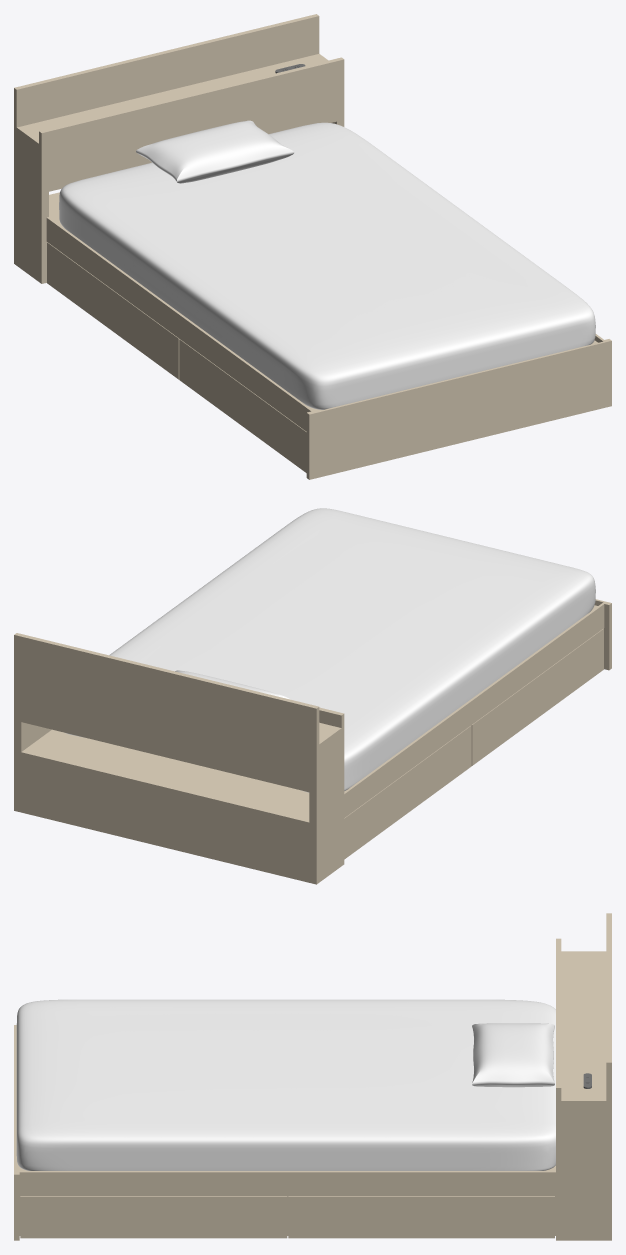
Rendered from 129_セミダブルベッド.glb.
The picture shows the model from 3 angles, top to bottom: view 1: azimuth 30°, elevation 25°; view 2: azimuth 150°, elevation 25°; view 3: azimuth 270°, elevation 25°; orthographic projection.
Visible parts, largest first — view 1: マットレス.001, body.001, 枕.001, 引き出し4.001, 引き出し3.001; view 2: body.001, マットレス.001, 引き出し3.001, 引き出し4.001; view 3: マットレス.001, body.001, 引き出し1.001, 引き出し2.001, 枕.001.
Boxes of the visible parts, left/top/right/bottom form: マットレス.001: left=59, top=122, right=595, bottom=409; body.001: left=14, top=14, right=611, bottom=479; 枕.001: left=136, top=120, right=294, bottom=183; 引き出し4.001: left=47, top=242, right=179, bottom=379; 引き出し3.001: left=179, top=339, right=306, bottom=472; body.001: left=14, top=599, right=611, bottom=884; マットレス.001: left=66, top=508, right=595, bottom=792; 引き出し3.001: left=471, top=628, right=603, bottom=765; 引き出し4.001: left=344, top=725, right=471, bottom=859; マットレス.001: left=16, top=999, right=555, bottom=1170; body.001: left=14, top=913, right=611, bottom=1240; 引き出し1.001: left=20, top=1196, right=287, bottom=1238; 引き出し2.001: left=288, top=1196, right=554, bottom=1238; 枕.001: left=472, top=1023, right=554, bottom=1087.
Size of the model in its own units: 1.26 by 0.7 by 2.13.
